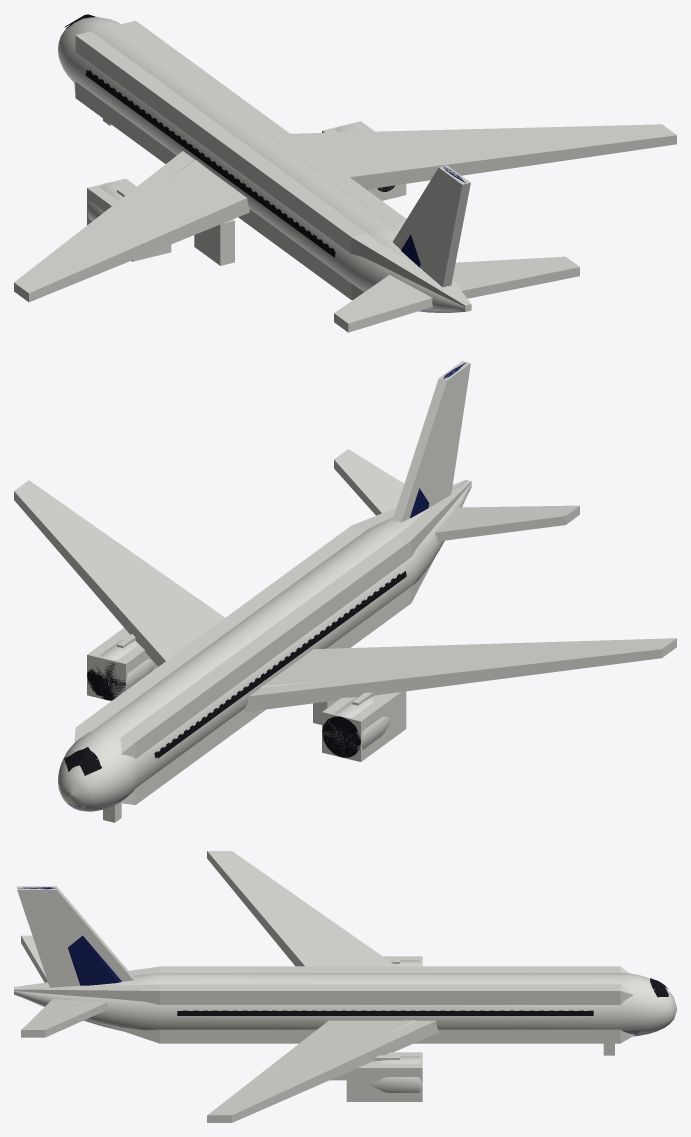
The model's file is bne_ac_wide_navy.dae.
3 renders of one model, top to bottom at view 1: azimuth 30°, elevation 25°; view 2: azimuth 150°, elevation 25°; view 3: azimuth 270°, elevation 25°, orthographic. The views are drawn at different scales.
Parts seen in each view (by area): view 1: Colmesh_bne_ac_wide_navy-1, bne_ac_wide_navy160, bne_ac_wide_navy16; view 2: Colmesh_bne_ac_wide_navy-1, bne_ac_wide_navy160, bne_ac_wide_navy16; view 3: Colmesh_bne_ac_wide_navy-1, bne_ac_wide_navy160, bne_ac_wide_navy16.
Boxes of the visible parts, x1=… form: Colmesh_bne_ac_wide_navy-1: x1=14, y1=20, x2=676, y2=332; bne_ac_wide_navy160: x1=14, y1=16, x2=471, y2=327; bne_ac_wide_navy16: x1=64, y1=14, x2=469, y2=310; Colmesh_bne_ac_wide_navy-1: x1=14, y1=361, x2=676, y2=822; bne_ac_wide_navy160: x1=58, y1=362, x2=674, y2=811; bne_ac_wide_navy16: x1=64, y1=481, x2=466, y2=795; Colmesh_bne_ac_wide_navy-1: x1=14, y1=851, x2=634, y2=1122; bne_ac_wide_navy160: x1=14, y1=887, x2=676, y2=1120; bne_ac_wide_navy16: x1=16, y1=977, x2=668, y2=1034.
Bounding box in the file's own units: 60.1 × 63.7 × 17.5.
